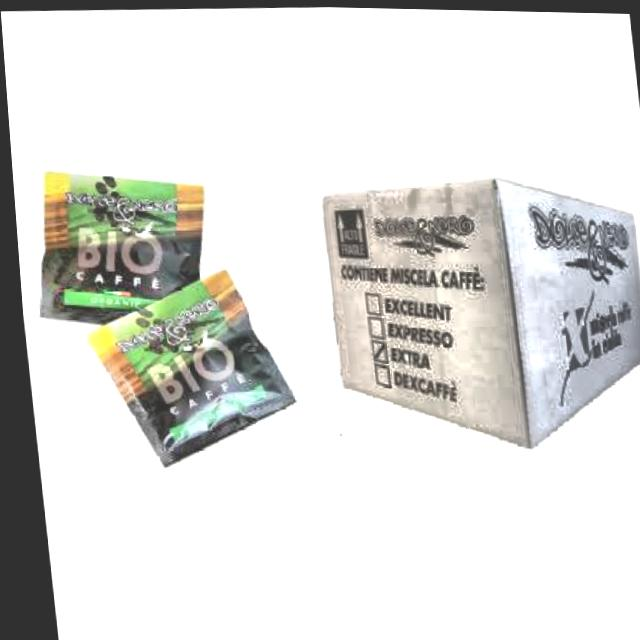Cardbox: (314, 171, 640, 455)
